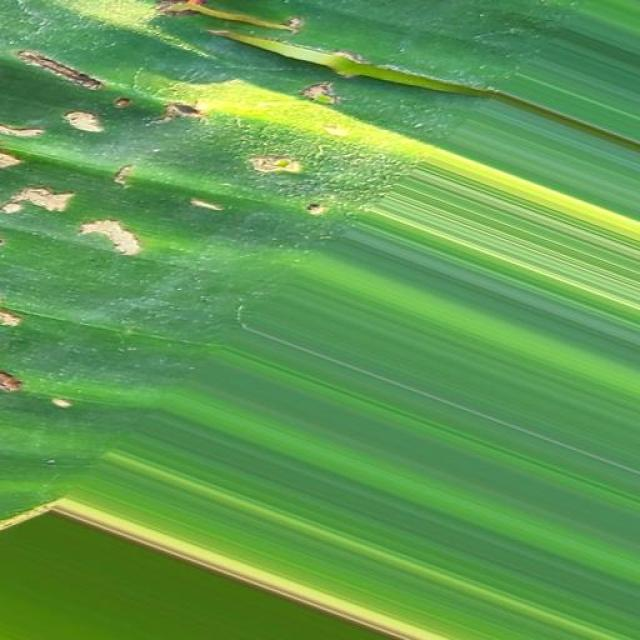Black_rot: (0, 6, 456, 480)
